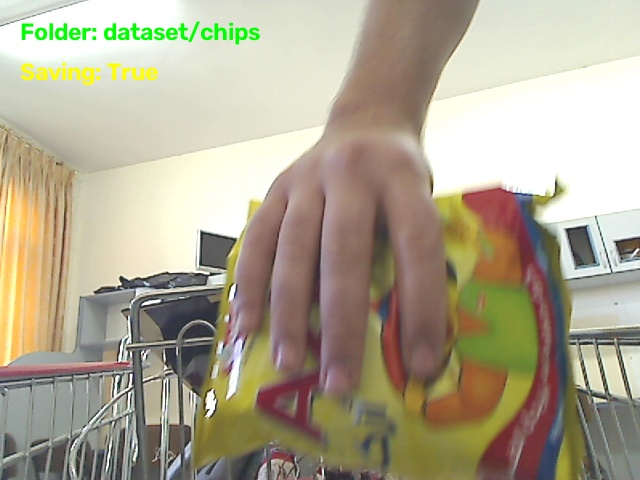chips: (195, 188, 582, 479)
